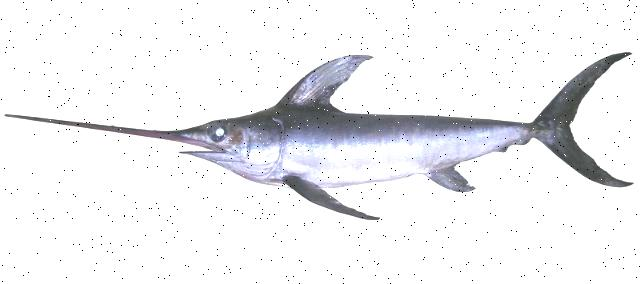Mulut: (1, 95, 267, 193)
Sirip Anal: (489, 132, 538, 160)
Sirip Dada: (276, 169, 388, 226)
Sirip Ekor: (520, 48, 640, 194)
Sirip Perut: (416, 156, 484, 196)
Sirip Punggung: (274, 49, 380, 117)
